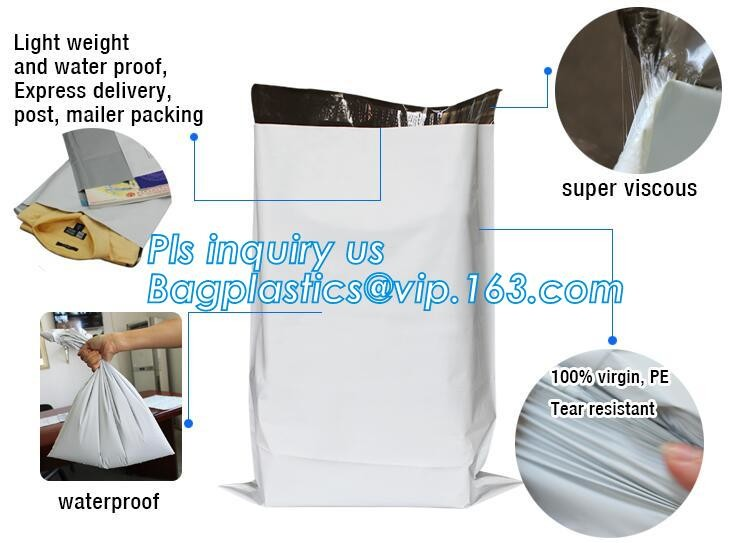Parcel: (247, 85, 502, 506)
